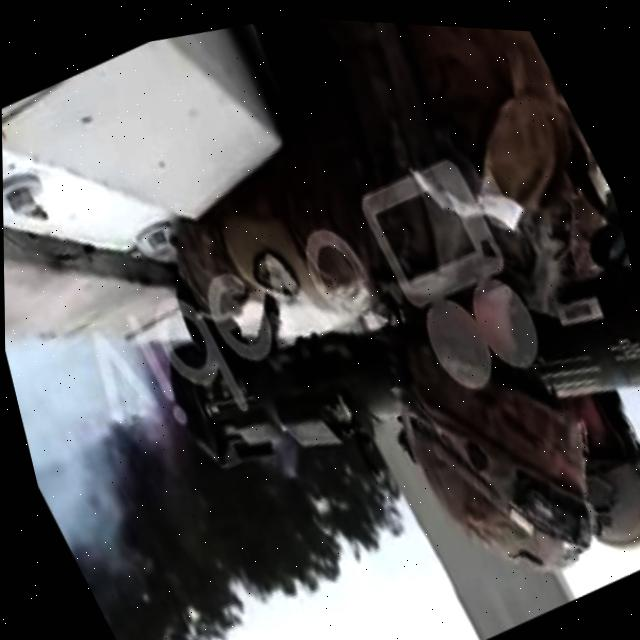rocket: (131, 149, 640, 600)
